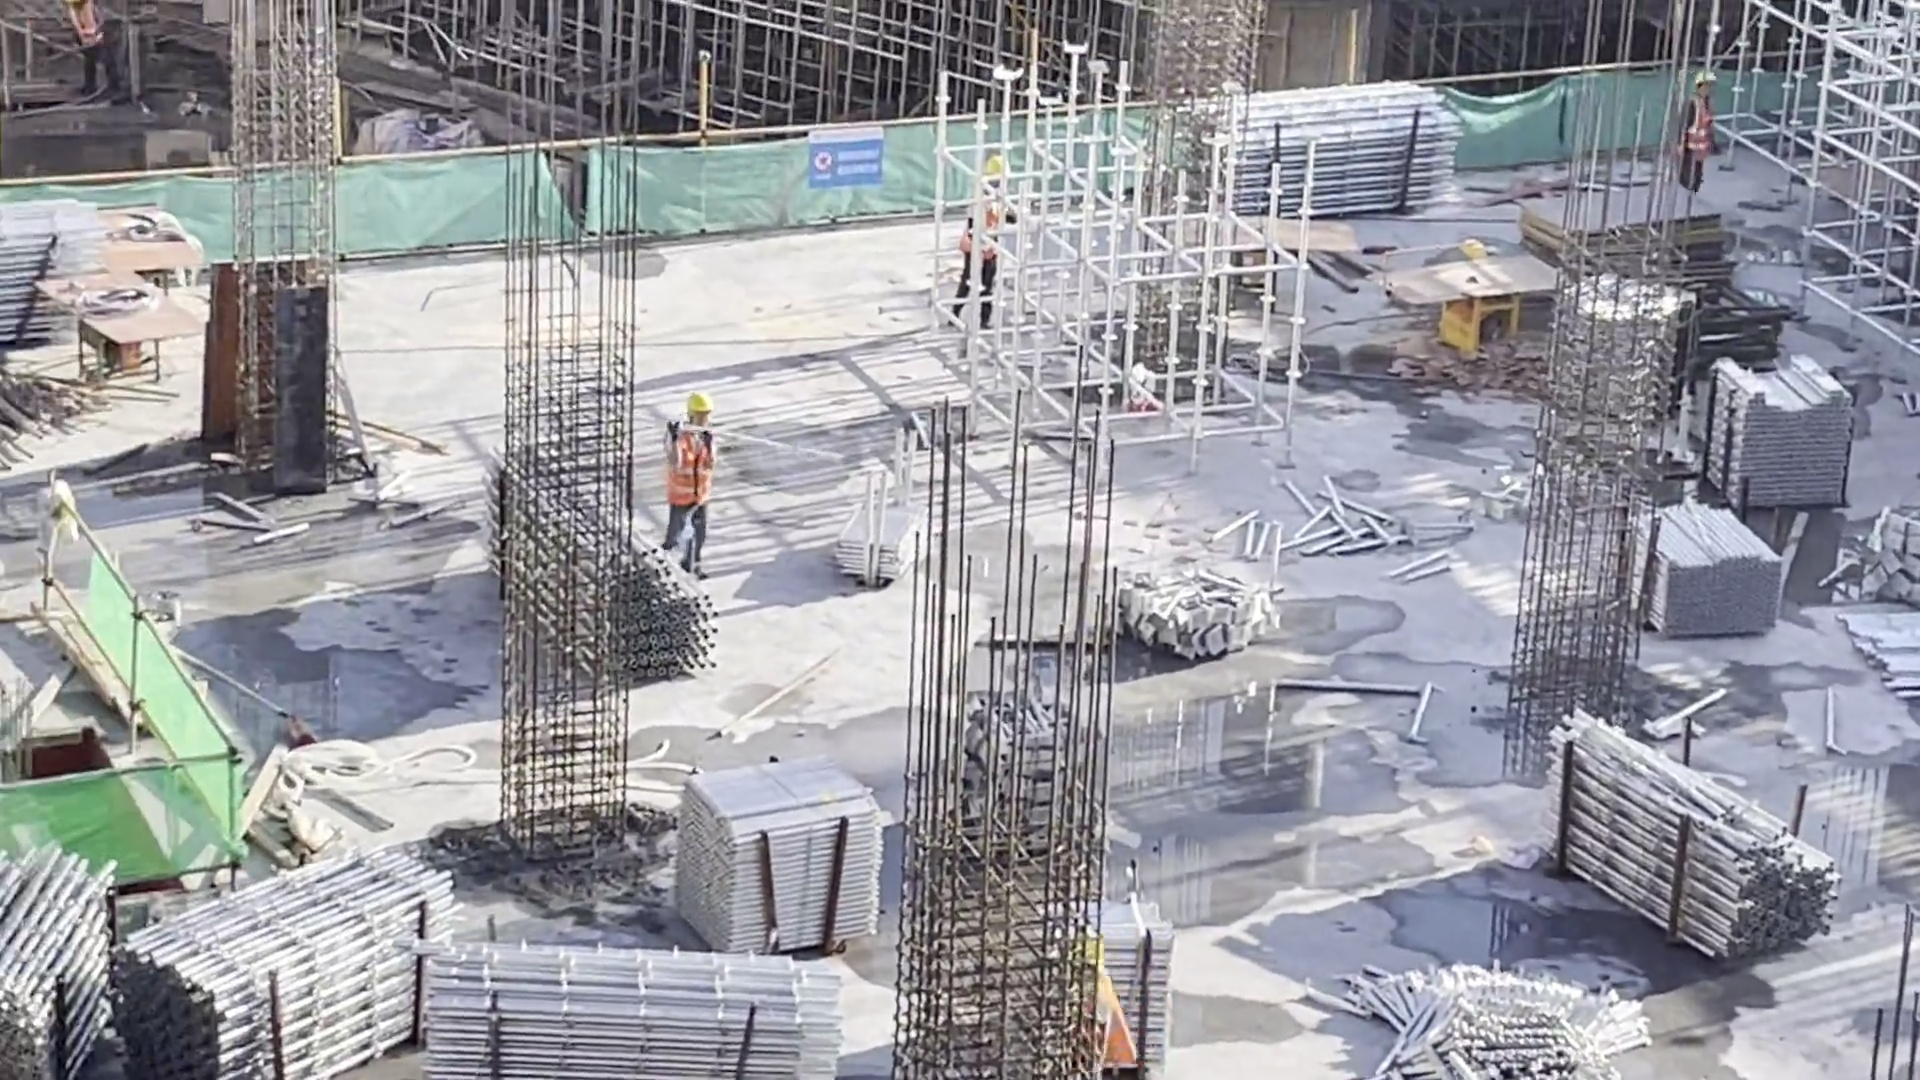board: (1532, 192, 1721, 271)
cutter: (67, 264, 166, 396), (1174, 219, 1328, 303), (1411, 277, 1548, 351), (98, 208, 191, 279)
helmet: (1073, 937, 1108, 971), (681, 395, 709, 419), (1693, 67, 1721, 90), (984, 153, 1009, 177)
person: (655, 382, 733, 583), (942, 153, 1013, 345), (1062, 928, 1148, 1080), (1669, 65, 1726, 201), (62, 1, 125, 99)
scaffold: (185, 856, 420, 1080), (424, 953, 836, 1080), (1567, 720, 1756, 944), (695, 765, 875, 955), (1358, 959, 1594, 1080), (1184, 109, 1457, 208), (1, 867, 113, 1072), (1725, 375, 1847, 532), (1556, 269, 1679, 416), (1641, 489, 1756, 615), (1, 215, 101, 335), (1853, 604, 1920, 697)
slogan: (806, 141, 884, 194)
vest: (1077, 981, 1137, 1073), (958, 197, 1007, 281), (665, 432, 709, 509), (1679, 99, 1714, 158), (75, 1, 108, 49)
